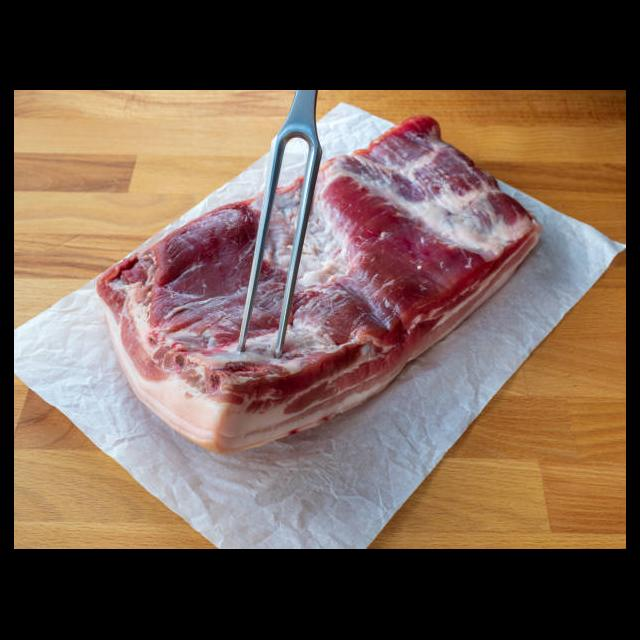pork: (328, 117, 542, 355), (101, 250, 237, 453)
